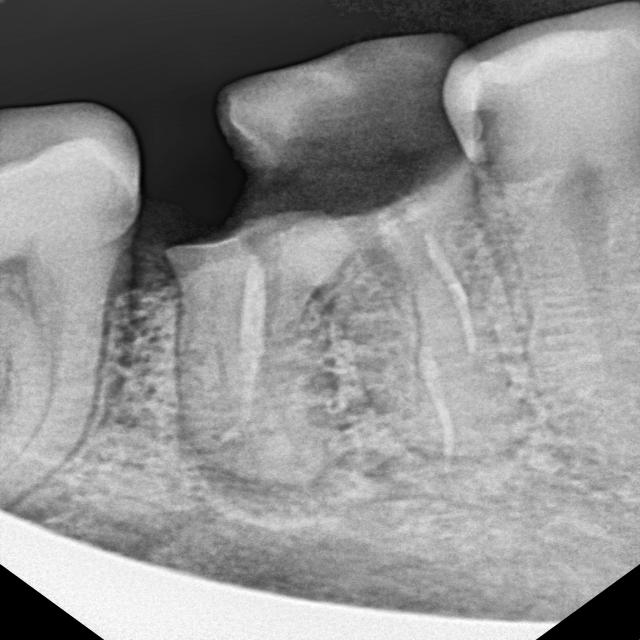Badly Decayed: (146, 21, 556, 549)
Caries: (423, 51, 525, 176)
Normal: (0, 73, 138, 510)
